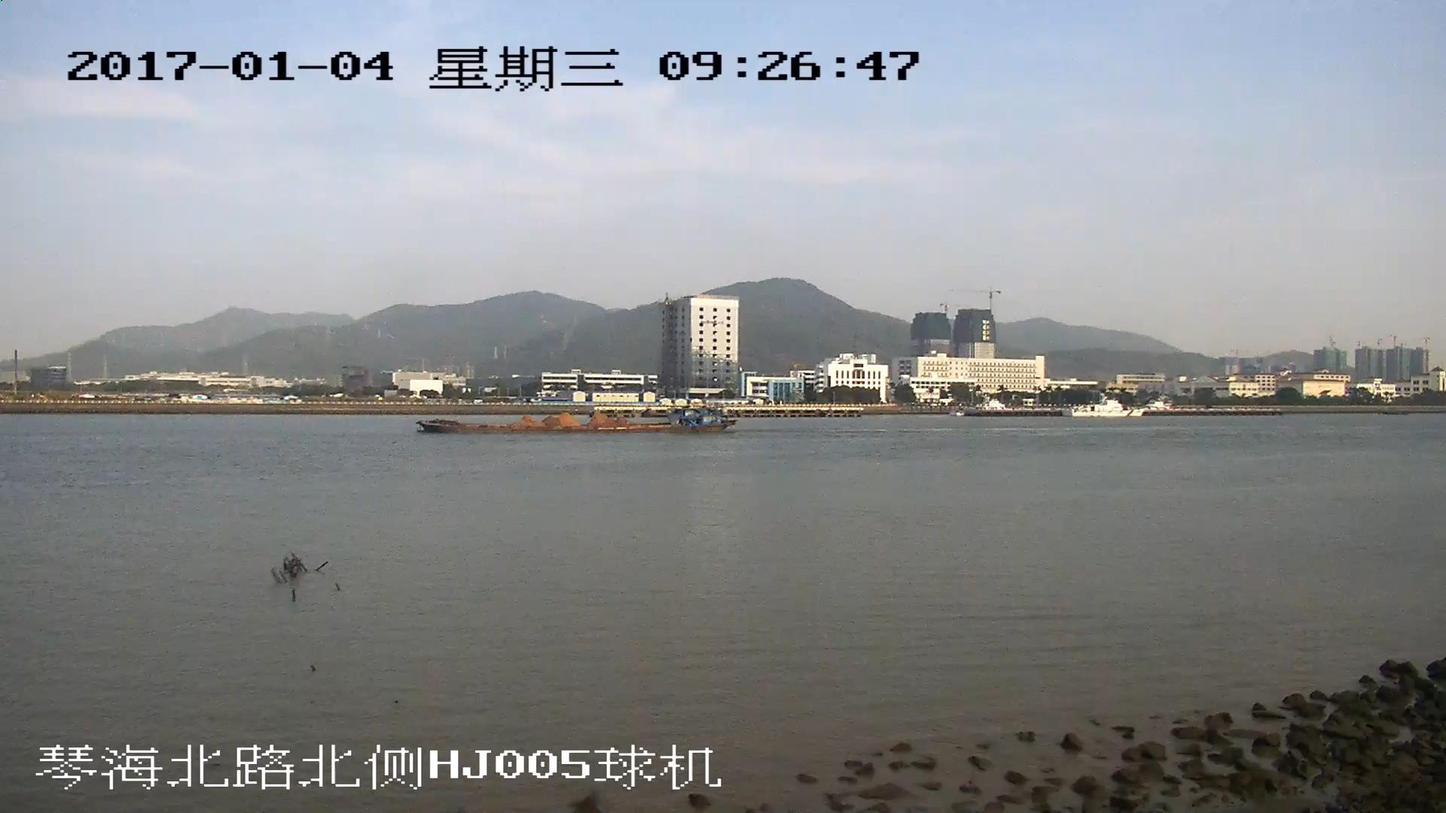ore carrier: (412, 406, 739, 431)
